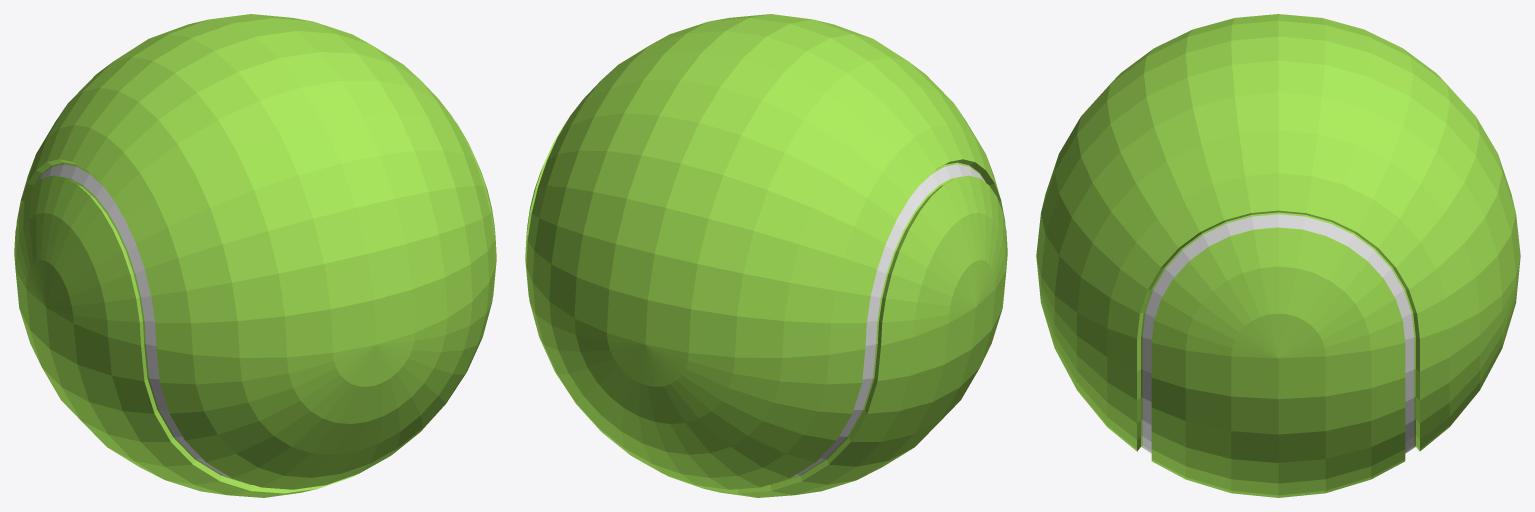
Rendered from Tennis Royal Run.fbx.
3 renders of one model, left to right at view 1: azimuth 30°, elevation 25°; view 2: azimuth 150°, elevation 25°; view 3: azimuth 270°, elevation 25°, orthographic.
Visible parts, largest first — view 1: Sphere.002; view 2: Sphere.002; view 3: Sphere.002.
Boxes of the visible parts, <box> form: Sphere.002: <box>14,14,496,497</box>; Sphere.002: <box>525,14,1007,497</box>; Sphere.002: <box>1036,14,1520,497</box>.
Size of the model in its own units: 6.54 by 6.54 by 6.54.
